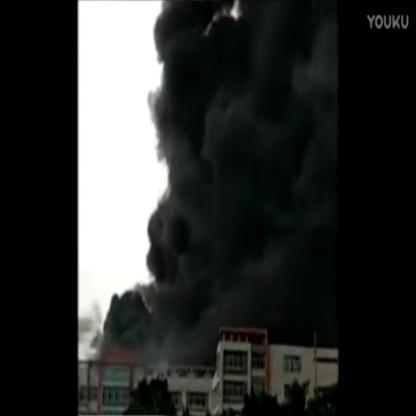smoke: (193, 193, 334, 324), (178, 77, 336, 187), (154, 3, 338, 76), (149, 192, 194, 358), (106, 288, 154, 350), (148, 74, 174, 169), (194, 328, 217, 370)
